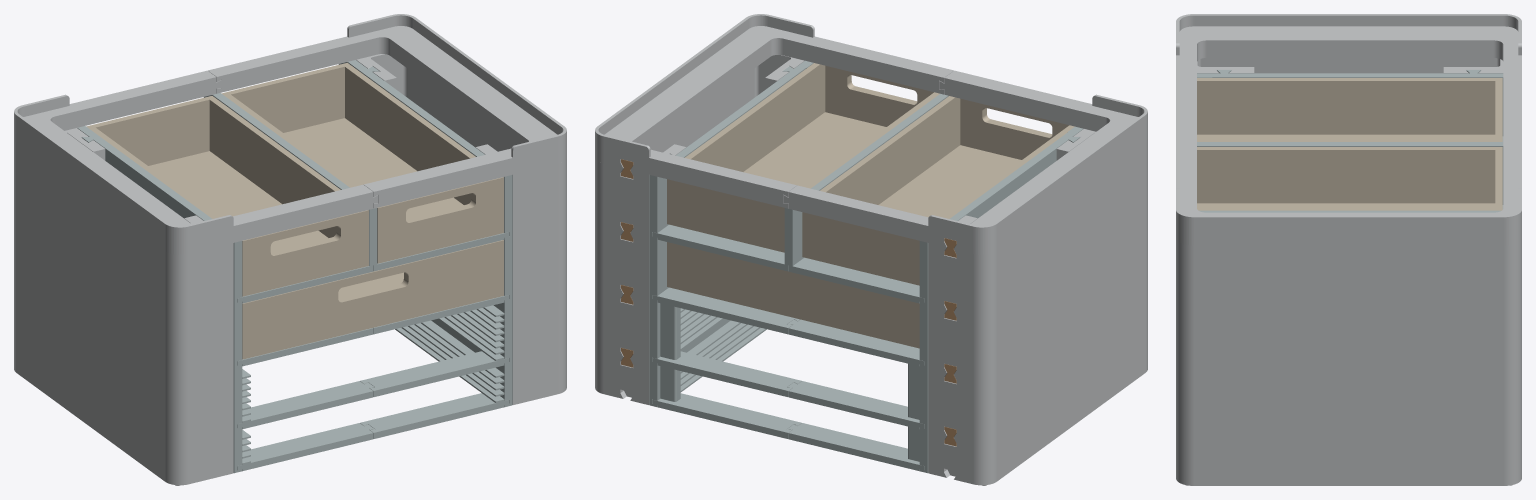
File: overstack-no-ht.glb
3 renders of one model, left to right at view 1: azimuth 30°, elevation 25°; view 2: azimuth 150°, elevation 25°; view 3: azimuth 270°, elevation 25°, orthographic. The views are drawn at different scales.
Visible parts, largest first — view 1: 2-drawer-layer__drawer_2, 2-drawer-layer__drawer_1, device-top__top_2, device-top__top_1, 1-drawer-layer__drawer_half_1, 2-drawer-layer__end_left_1, 1-drawer-layer__end_left_1, 8-slot-plate-layer__end_left, 5-slot-plate-layer__end_left, 2-drawer-layer__end_right_1, 8-slot-plate-layer__end_right, 1-drawer-layer__end_right_1 (+17 smaller); view 2: 2-drawer-layer__drawer_2, 2-drawer-layer__drawer_1, device-top__top_2, device-top__top_1, 2-drawer-layer__end_left_1, 8-slot-plate-layer__end_left, 1-drawer-layer__end_left_1, 1-drawer-layer__drawer_half_2, 5-slot-plate-layer__end_left, 2-drawer-layer__end_right_1, 1-drawer-layer__end_right_1, 8-slot-plate-layer__end_right (+18 smaller); view 3: 8-slot-plate-layer__end_right, 2-drawer-layer__end_right_1, 1-drawer-layer__end_right_1, 2-drawer-layer__drawer_1, 2-drawer-layer__drawer_2, device-top__top_1, 5-slot-plate-layer__end_right, device-top__top_2, 2-drawer-layer__end_left_1, 2-drawer-layer__side_left, 2-drawer-layer__divider_1, 2-drawer-layer__side_right.
Part boxes in pixels (x1,y1,x2,y2): 2-drawer-layer__drawer_2: (221, 62, 503, 263); 2-drawer-layer__drawer_1: (86, 96, 368, 296); device-top__top_2: (208, 14, 566, 208); device-top__top_1: (14, 70, 378, 254); 1-drawer-layer__drawer_half_1: (242, 240, 503, 359); 2-drawer-layer__end_left_1: (14, 128, 233, 317); 1-drawer-layer__end_left_1: (14, 202, 233, 380); 8-slot-plate-layer__end_left: (14, 265, 233, 443); 5-slot-plate-layer__end_left: (14, 328, 233, 485); 2-drawer-layer__end_right_1: (356, 54, 566, 237); 8-slot-plate-layer__end_right: (512, 284, 566, 363); 1-drawer-layer__end_right_1: (512, 221, 566, 300); 2-drawer-layer__drawer_2: (667, 63, 939, 252); 2-drawer-layer__drawer_1: (802, 96, 1074, 285); device-top__top_2: (595, 14, 953, 208); device-top__top_1: (783, 70, 1147, 254); 2-drawer-layer__end_left_1: (928, 129, 1147, 317); 8-slot-plate-layer__end_left: (928, 265, 1147, 443); 1-drawer-layer__end_left_1: (928, 202, 1147, 380); 1-drawer-layer__drawer_half_2: (667, 242, 919, 348); 5-slot-plate-layer__end_left: (928, 328, 1147, 485); 2-drawer-layer__end_right_1: (595, 55, 804, 237); 1-drawer-layer__end_right_1: (595, 221, 649, 300); 8-slot-plate-layer__end_right: (595, 284, 649, 363); 8-slot-plate-layer__end_right: (1176, 370, 1521, 442); 2-drawer-layer__end_right_1: (1176, 239, 1521, 311); 1-drawer-layer__end_right_1: (1176, 304, 1521, 376); 2-drawer-layer__drawer_1: (1197, 78, 1502, 141); 2-drawer-layer__drawer_2: (1197, 147, 1502, 210); device-top__top_1: (1176, 14, 1521, 126); 5-slot-plate-layer__end_right: (1176, 436, 1521, 485); device-top__top_2: (1176, 126, 1521, 245); 2-drawer-layer__end_left_1: (1197, 58, 1503, 73); 2-drawer-layer__side_left: (1197, 70, 1503, 135); 2-drawer-layer__divider_1: (1197, 142, 1503, 204); 2-drawer-layer__side_right: (1199, 210, 1501, 212).
Size of the model in its own units: 0.399 by 0.249 by 0.287.
